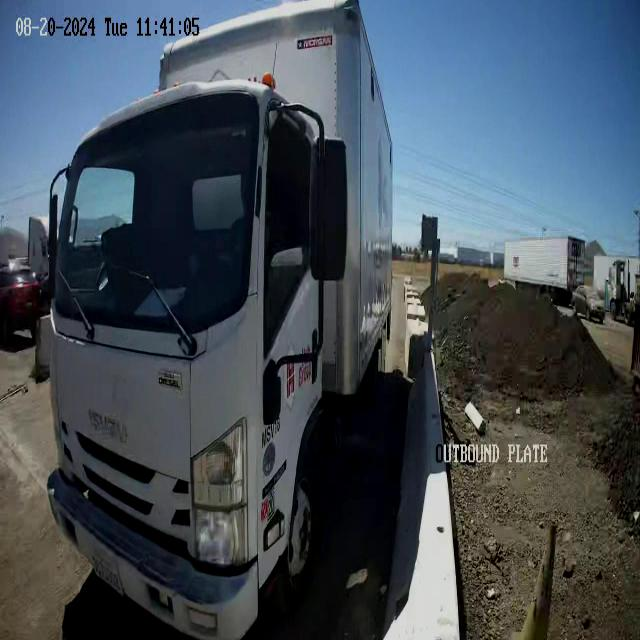CONTAINER: (161, 10, 394, 390)
